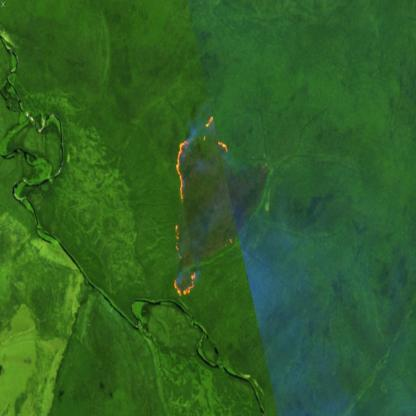fire: (166, 112, 236, 300)
